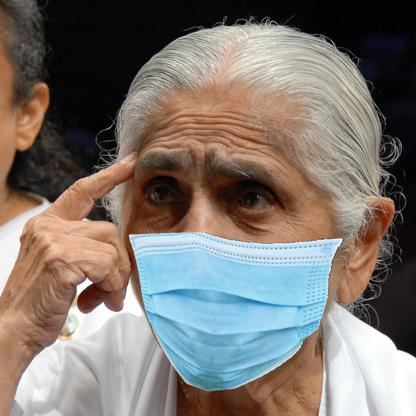mask: (129, 228, 343, 396)
